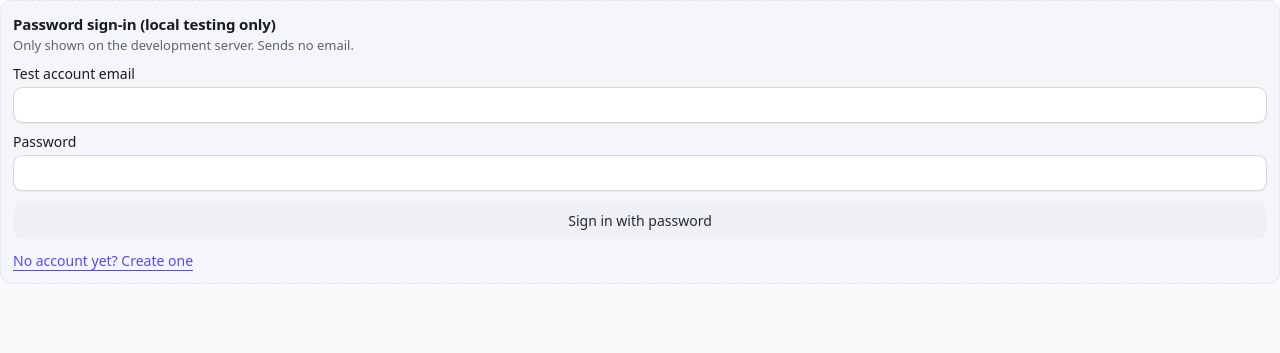
it: DevPasswordSignIn › explains when Supabase still requires email confirmation
The image size is (1280, 353).
Click the button "No account yet? Create one".
click(103, 261)  # box [13, 251, 193, 271]
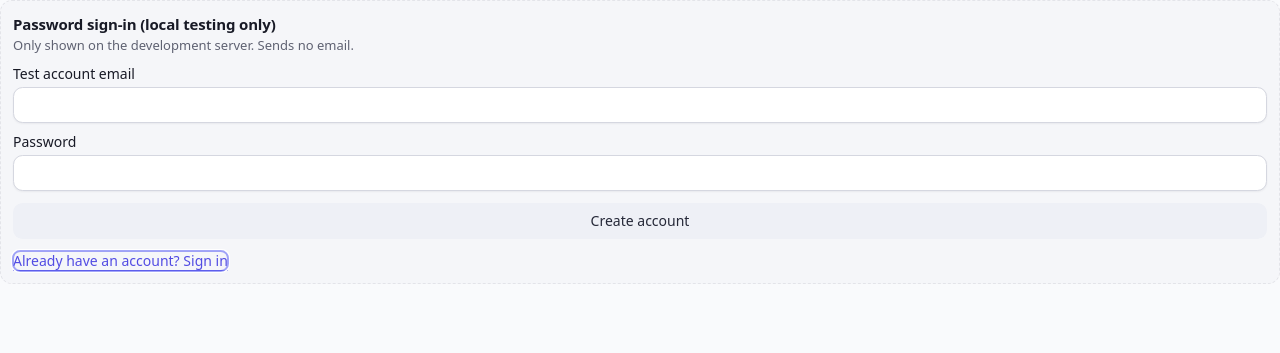
Type "alice@example.com" into the field labelled "Test account email".
click(640, 105); type("alice@example.com")  # box [13, 87, 1267, 123]
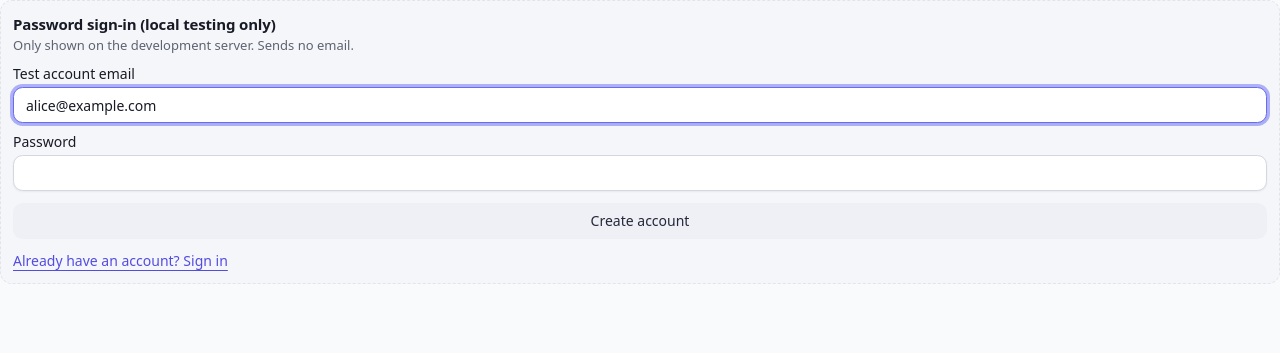
Type "secret123" into the password field labelled "Password".
click(640, 173); type("secret123")  # box [13, 155, 1267, 191]
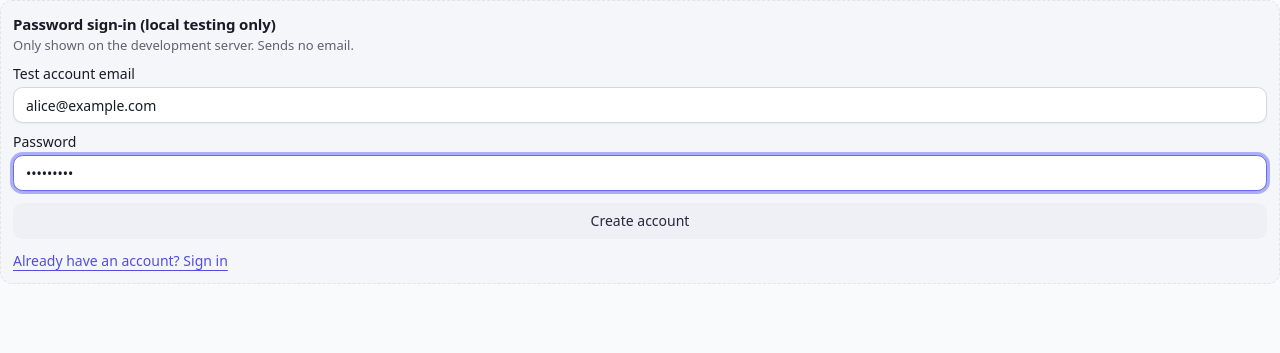
Click the button "Create account".
click(640, 221)  # box [13, 203, 1267, 239]
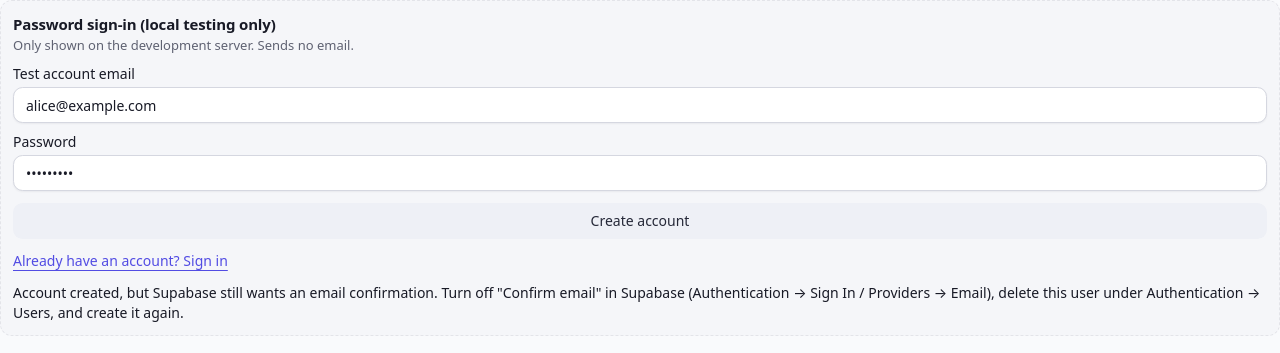
Now the message shows "Turn off \"Confirm email\"", box [13, 283, 1260, 322]
